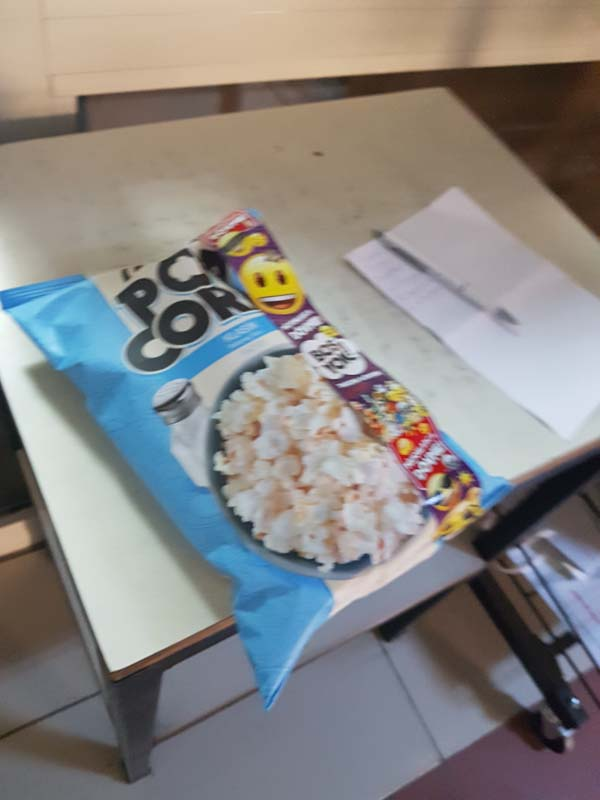popcorn: (4, 197, 520, 709)
